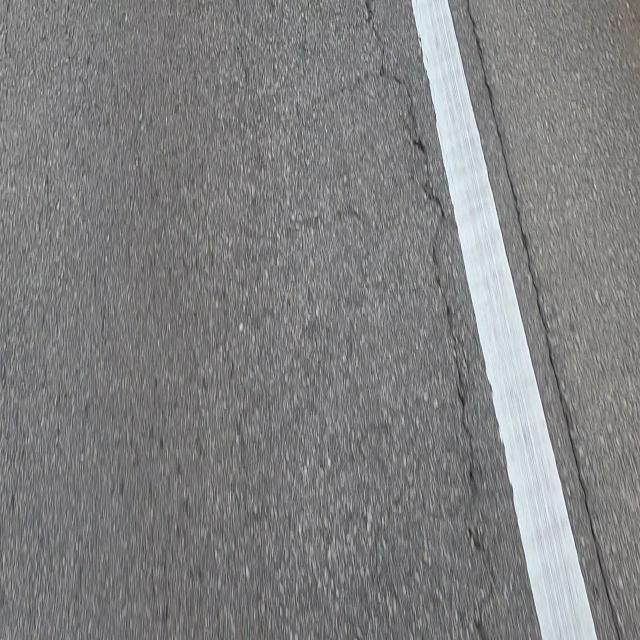Retak-Memanjang: (462, 0, 626, 640), (360, 0, 495, 631)
